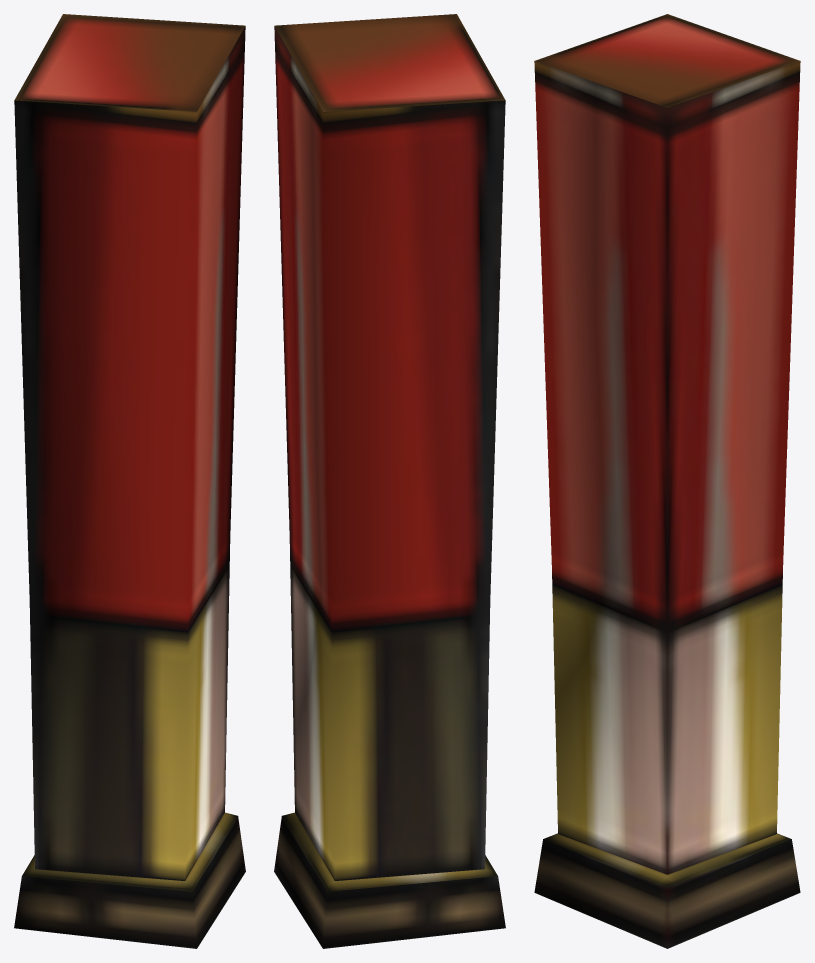
Rendered from bullet2.FBX.
3 views of the same model, side by side, from view 1: azimuth 30°, elevation 25°; view 2: azimuth 150°, elevation 25°; view 3: azimuth 270°, elevation 25° (orthographic).
Visible parts, largest first — view 1: bullet2; view 2: bullet2; view 3: bullet2.
Part boxes in pixels (x1,y1,x2,y2): bullet2: (14, 14, 245, 948); bullet2: (274, 14, 505, 948); bullet2: (534, 14, 800, 948).
Bounding box in the file's own units: 0.1003 × 0.3497 × 0.1003.
